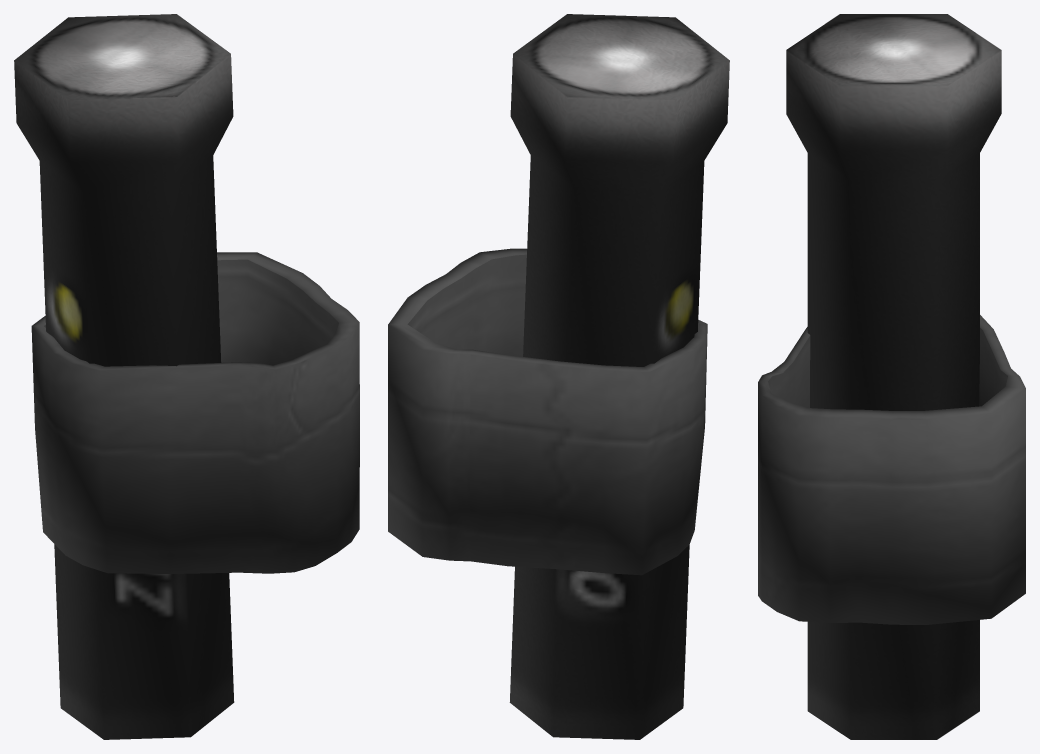
Rendered from TLOG_WeaponFlashlightMPX.fbx.
The picture shows the model from 3 angles, left to right: view 1: azimuth 30°, elevation 25°; view 2: azimuth 150°, elevation 25°; view 3: azimuth 270°, elevation 25°; orthographic projection.
Parts seen in each view (by area): view 1: FlashlightFullAutoRifle.004; view 2: FlashlightFullAutoRifle.004; view 3: FlashlightFullAutoRifle.004.
Part boxes in pixels (x1=…): FlashlightFullAutoRifle.004: x1=14, y1=14, x2=359, y2=739; FlashlightFullAutoRifle.004: x1=388, y1=14, x2=729, y2=739; FlashlightFullAutoRifle.004: x1=758, y1=14, x2=1025, y2=739.
Bounding box in the file's own units: 0.0598 × 0.1389 × 0.0503.
